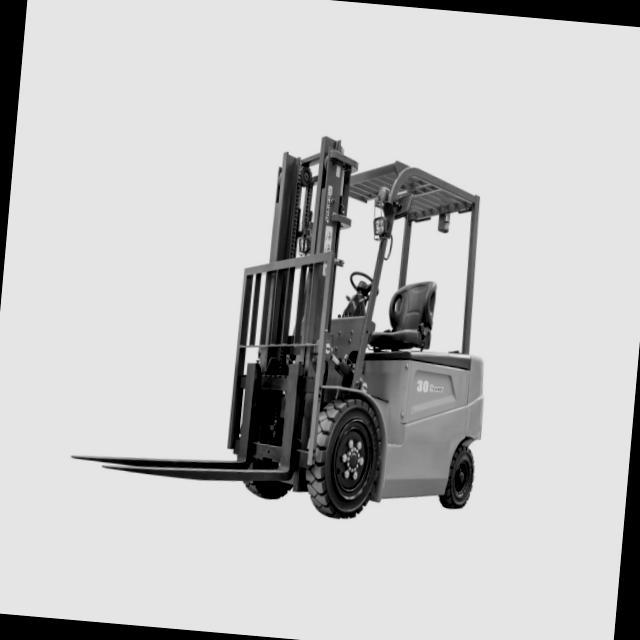forklift: (205, 145, 504, 556)
